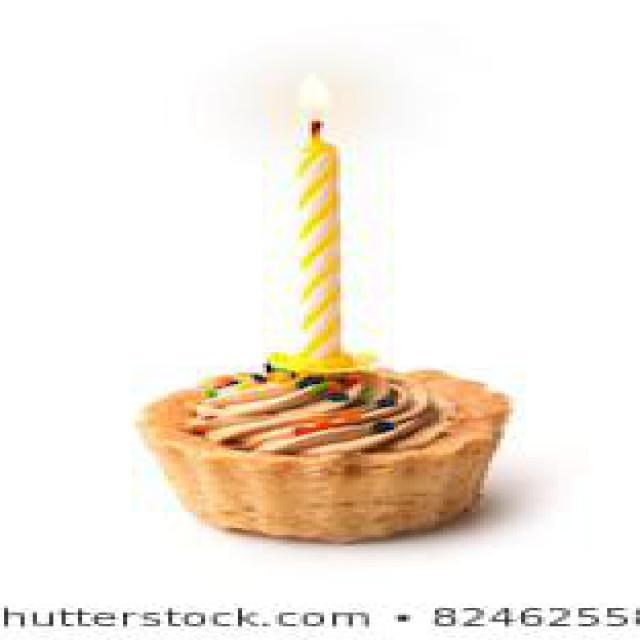Fire: (296, 71, 328, 119)
